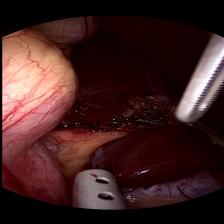Grasper: (169, 38, 223, 124)
Irrigator: (68, 160, 126, 214)
